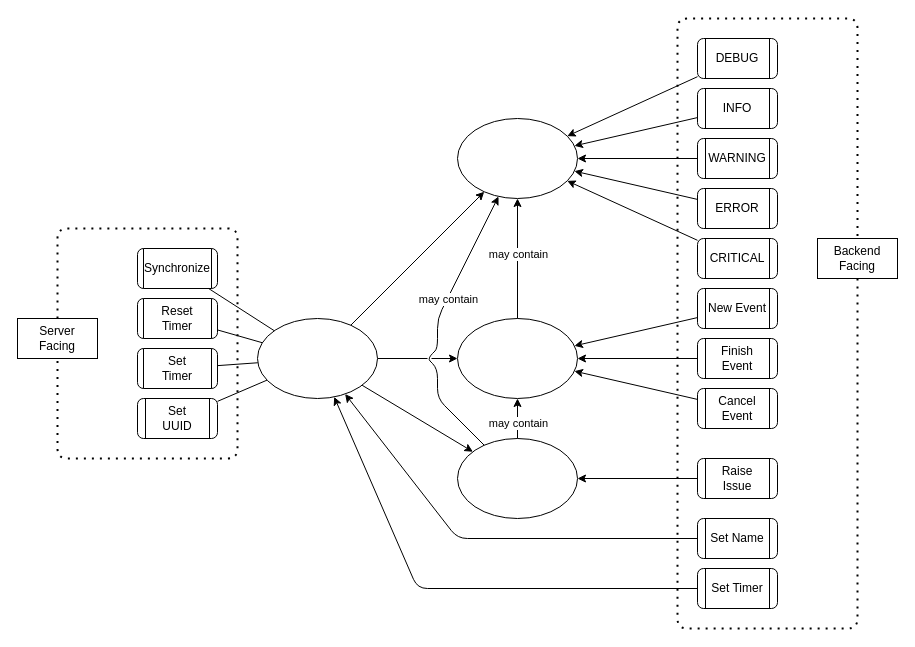
Image size: 915x647. Some labels were removed from this diagram. The centre of each missing label's shape, as x and y in pixels:
Event: (x=517, y=358)
Issue Raiser: (x=517, y=478)
Logging: (x=517, y=158)
Tekek Client: (x=317, y=358)
